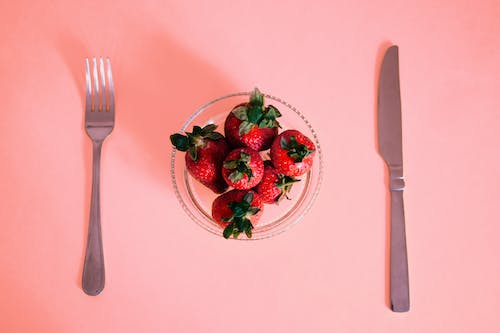knife: (375, 40, 412, 315)
